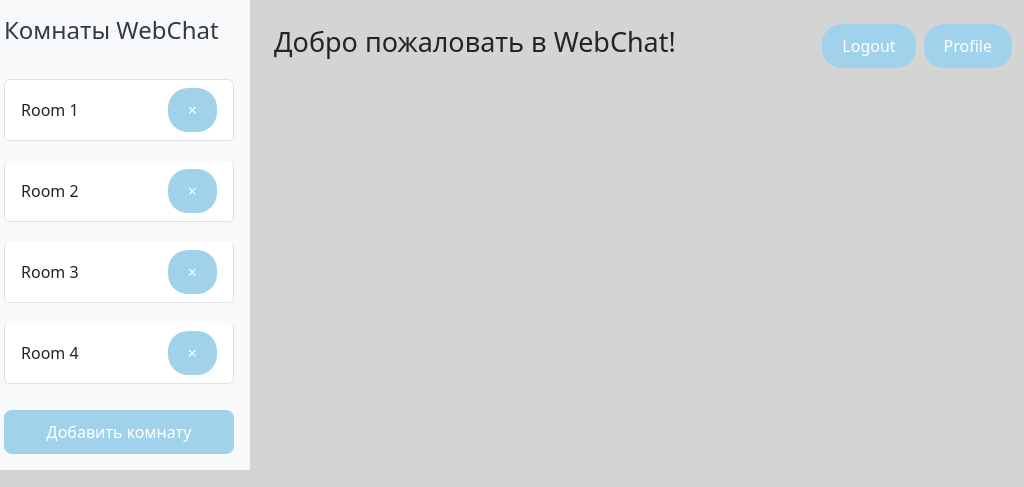
RoomsPage.vue › отображает сообщение об ошибке при неудачном удалении комнаты
Click the button with class "btn-danger" next to "Room 1": point(192, 110) [168, 88, 217, 132]
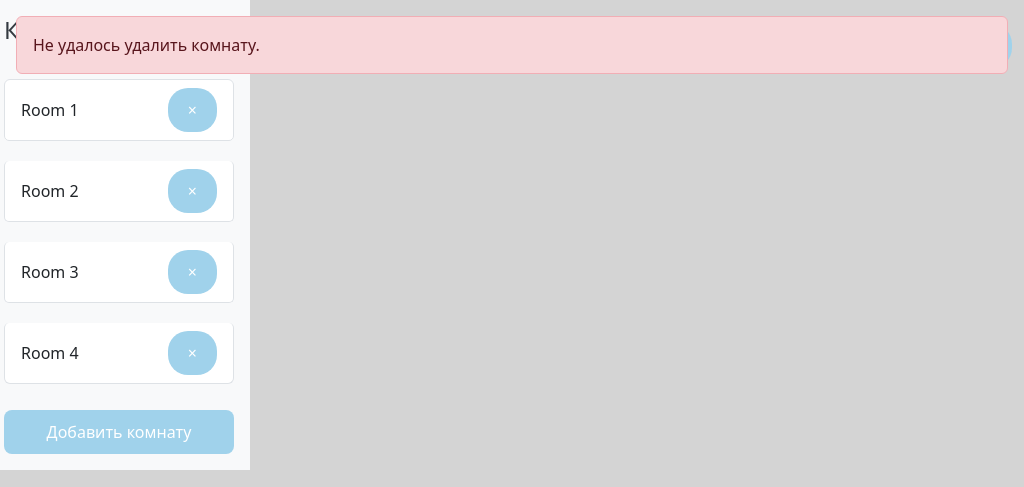
Expected: the text "Не удалось удалить комнату." is shown, [16, 16, 1008, 74]
